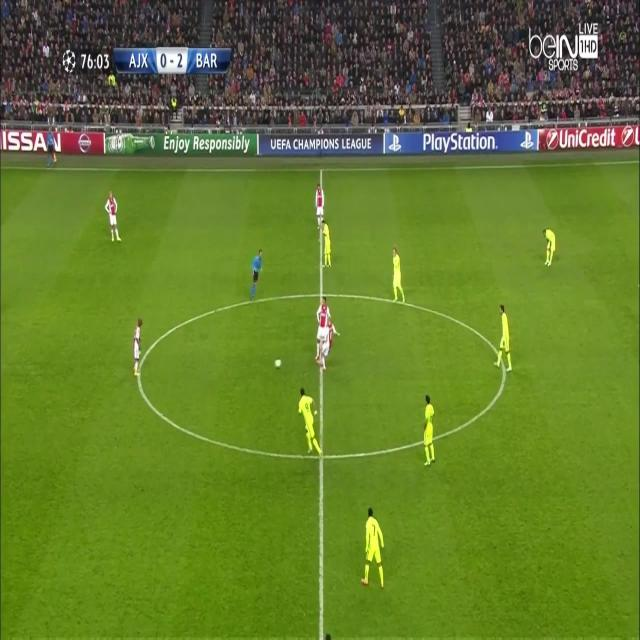Ball: (273, 353, 283, 373)
Player: (361, 504, 387, 592), (296, 386, 324, 459), (494, 300, 513, 374), (313, 295, 331, 365), (422, 394, 438, 470), (320, 314, 340, 374), (104, 186, 125, 242), (130, 316, 146, 378), (392, 246, 408, 308), (541, 222, 557, 270), (321, 216, 333, 270), (314, 182, 326, 230)
Referee: (248, 245, 266, 306), (44, 128, 56, 170)
